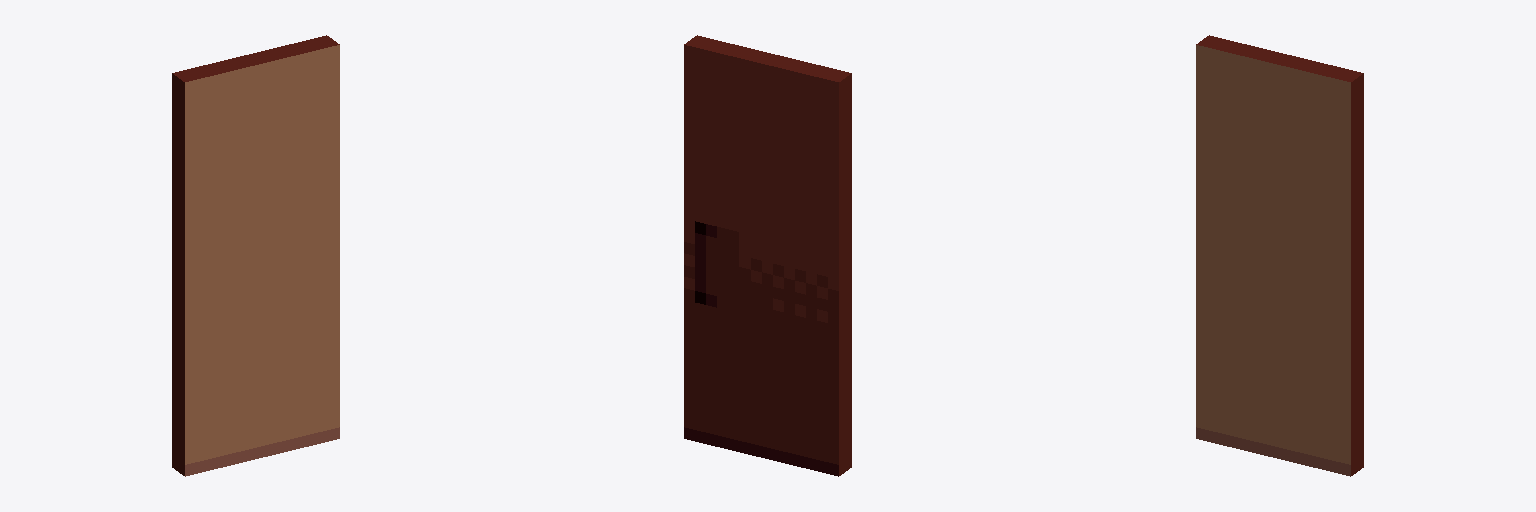
3 views of the same model, side by side, from view 1: azimuth 30°, elevation 25°; view 2: azimuth 150°, elevation 25°; view 3: azimuth 330°, elevation 25° (orthographic).
Visible parts, largest first — view 1: Default; view 2: Default; view 3: Default.
Part boxes in pixels (left/top/right/bottom): Default: left=172, top=35, right=339, bottom=476; Default: left=684, top=35, right=851, bottom=476; Default: left=1196, top=35, right=1363, bottom=476.
Bounding box in the file's own units: 0.14 × 0.34 × 0.02.
Materials: 1 (1 with a texture image).